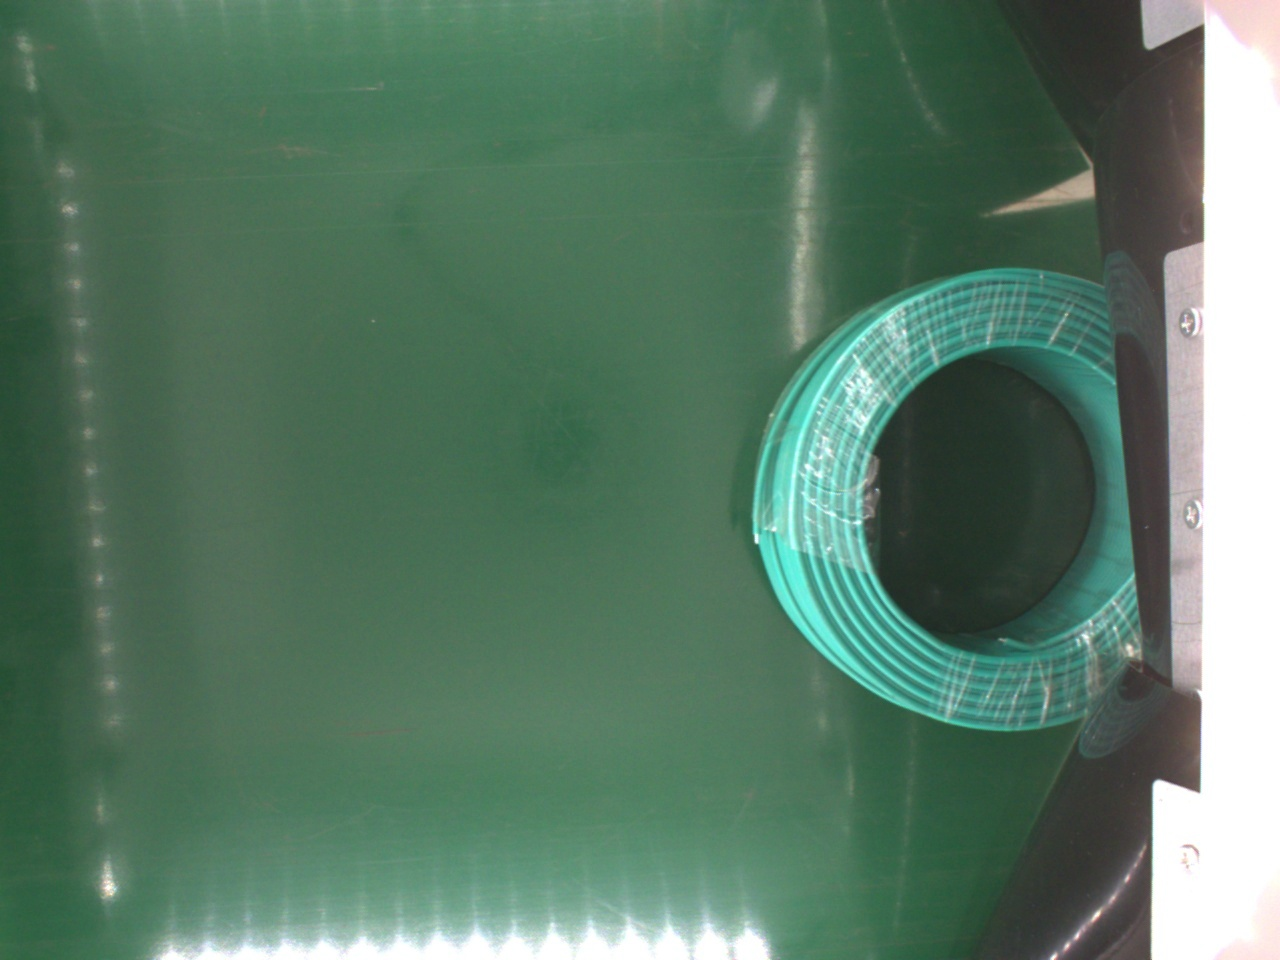green: (752, 265, 1135, 735)
